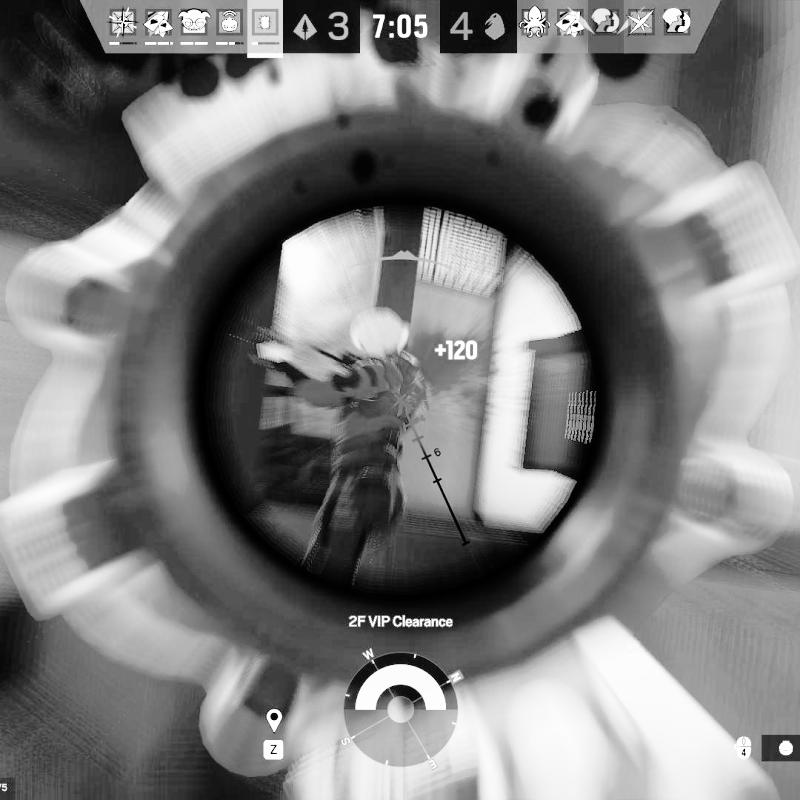Character: (263, 305, 434, 601)
Head: (344, 304, 412, 361)
